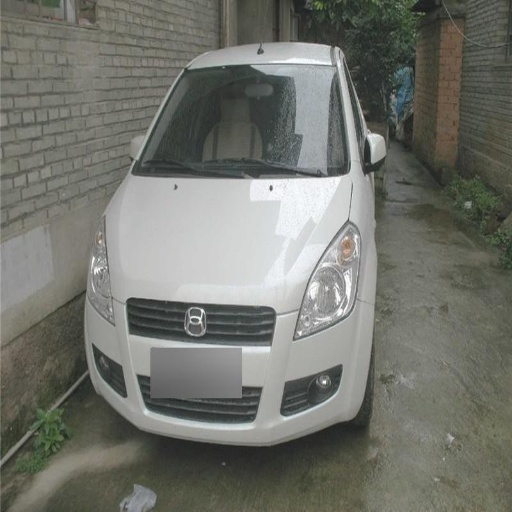front_bumper: (87, 295, 372, 444)
front_right_light: (89, 228, 114, 321)
hood: (109, 175, 353, 309)
